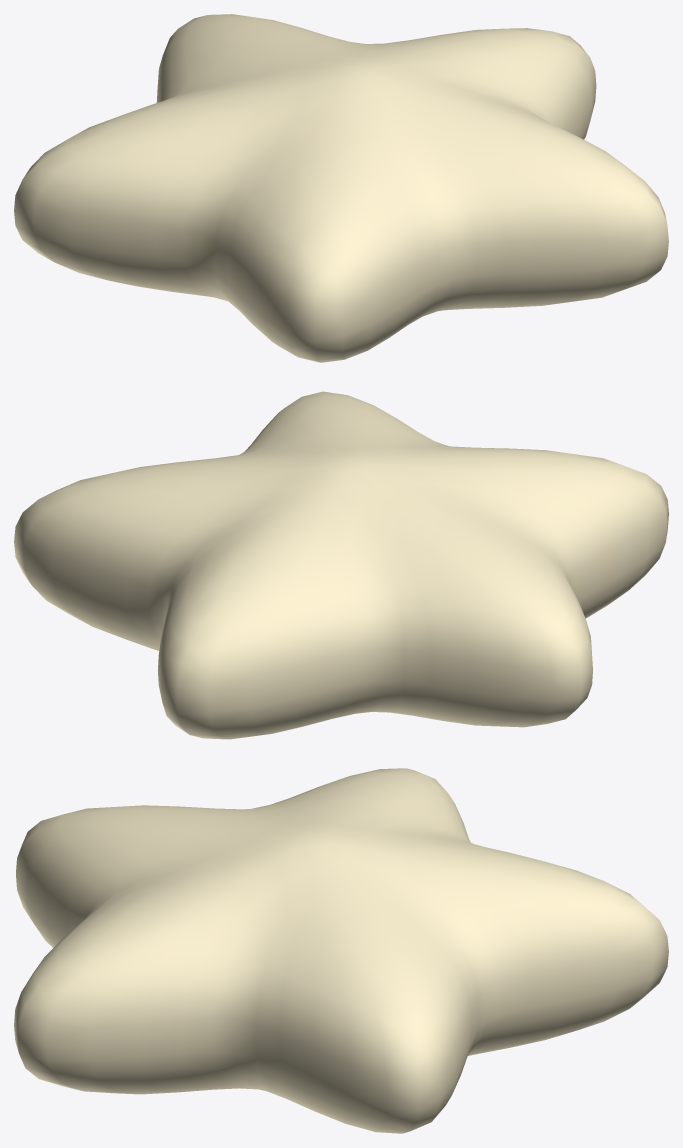
The model's file is eff_mesh_star_03.FBX.
3 views of the same model, one above another, from view 1: azimuth 30°, elevation 25°; view 2: azimuth 150°, elevation 25°; view 3: azimuth 270°, elevation 25° (orthographic). The views are drawn at different scales.
Visible parts, largest first — view 1: xingxing; view 2: xingxing; view 3: xingxing.
Part boxes in pixels (x1=…): xingxing: x1=14, y1=14, x2=668, y2=362; xingxing: x1=14, y1=391, x2=668, y2=739; xingxing: x1=14, y1=768, x2=668, y2=1133.
Size of the model in its own units: 1.41 by 0.5254 by 1.35.
